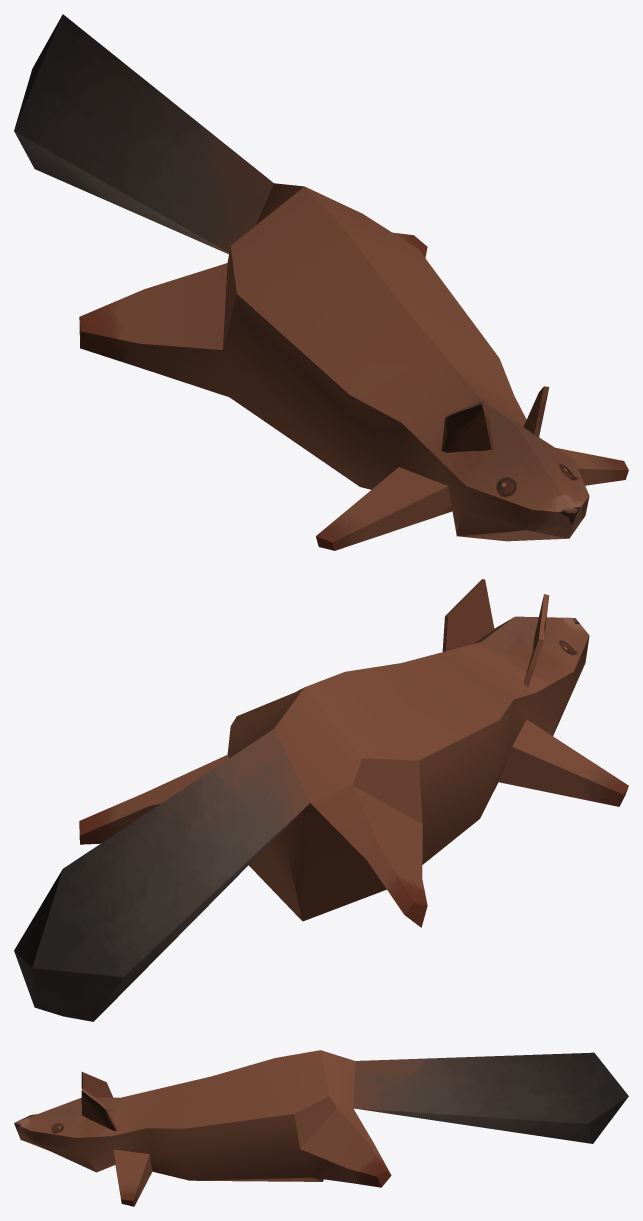
Rendered from orava.gltf.
The picture shows the model from 3 angles, top to bottom: view 1: azimuth 30°, elevation 25°; view 2: azimuth 150°, elevation 25°; view 3: azimuth 270°, elevation 25°; orthographic projection. The views are drawn at different scales.
Visible parts, largest first — view 1: orava; view 2: orava; view 3: orava.
Boxes of the visible parts, box(x1,y1,x2,y2) form: orava: box(14, 14, 628, 550); orava: box(14, 579, 628, 1021); orava: box(14, 1050, 628, 1206).
Size of the model in its own units: 1.61 by 1.03 by 4.36.
Materials: 1 (1 with a texture image).
